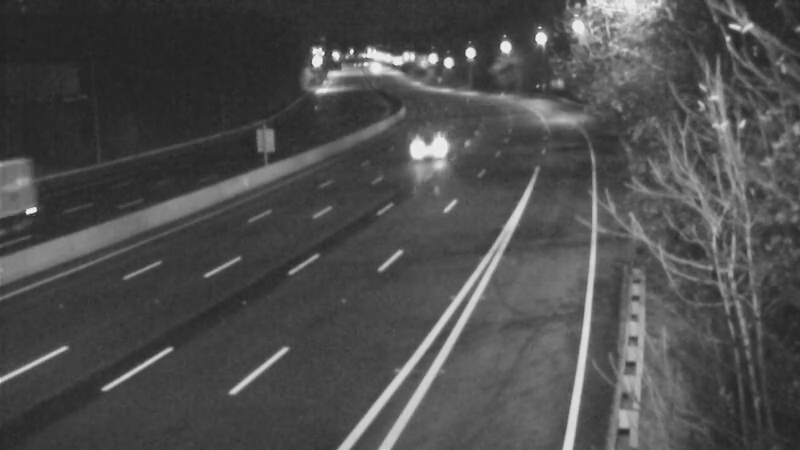vehicle: (1, 153, 66, 233), (408, 116, 458, 166)
